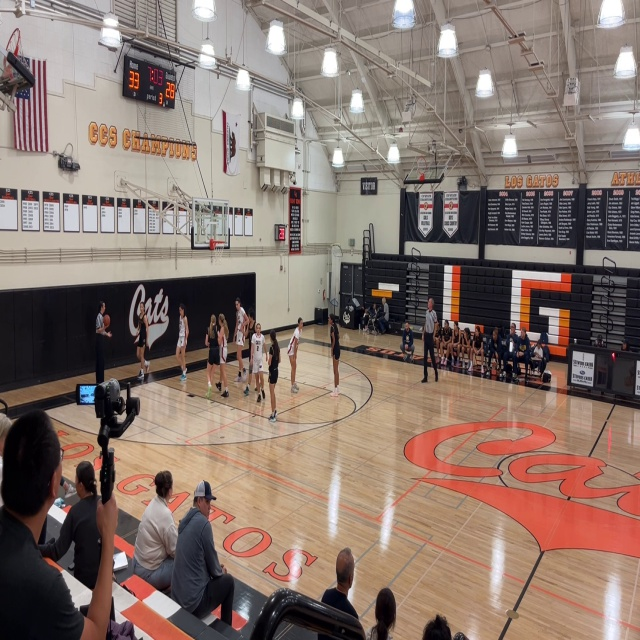Basketball: (103, 314, 110, 329)
